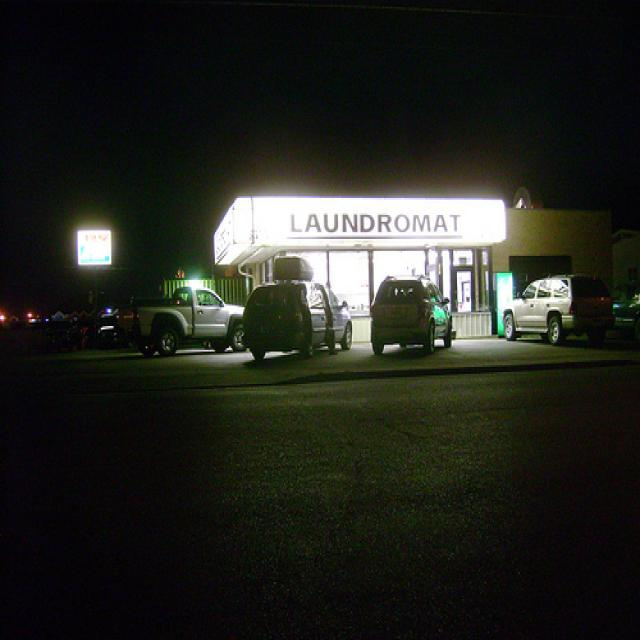Car: (123, 265, 240, 414), (218, 270, 348, 402), (483, 255, 610, 389), (354, 261, 467, 400)
